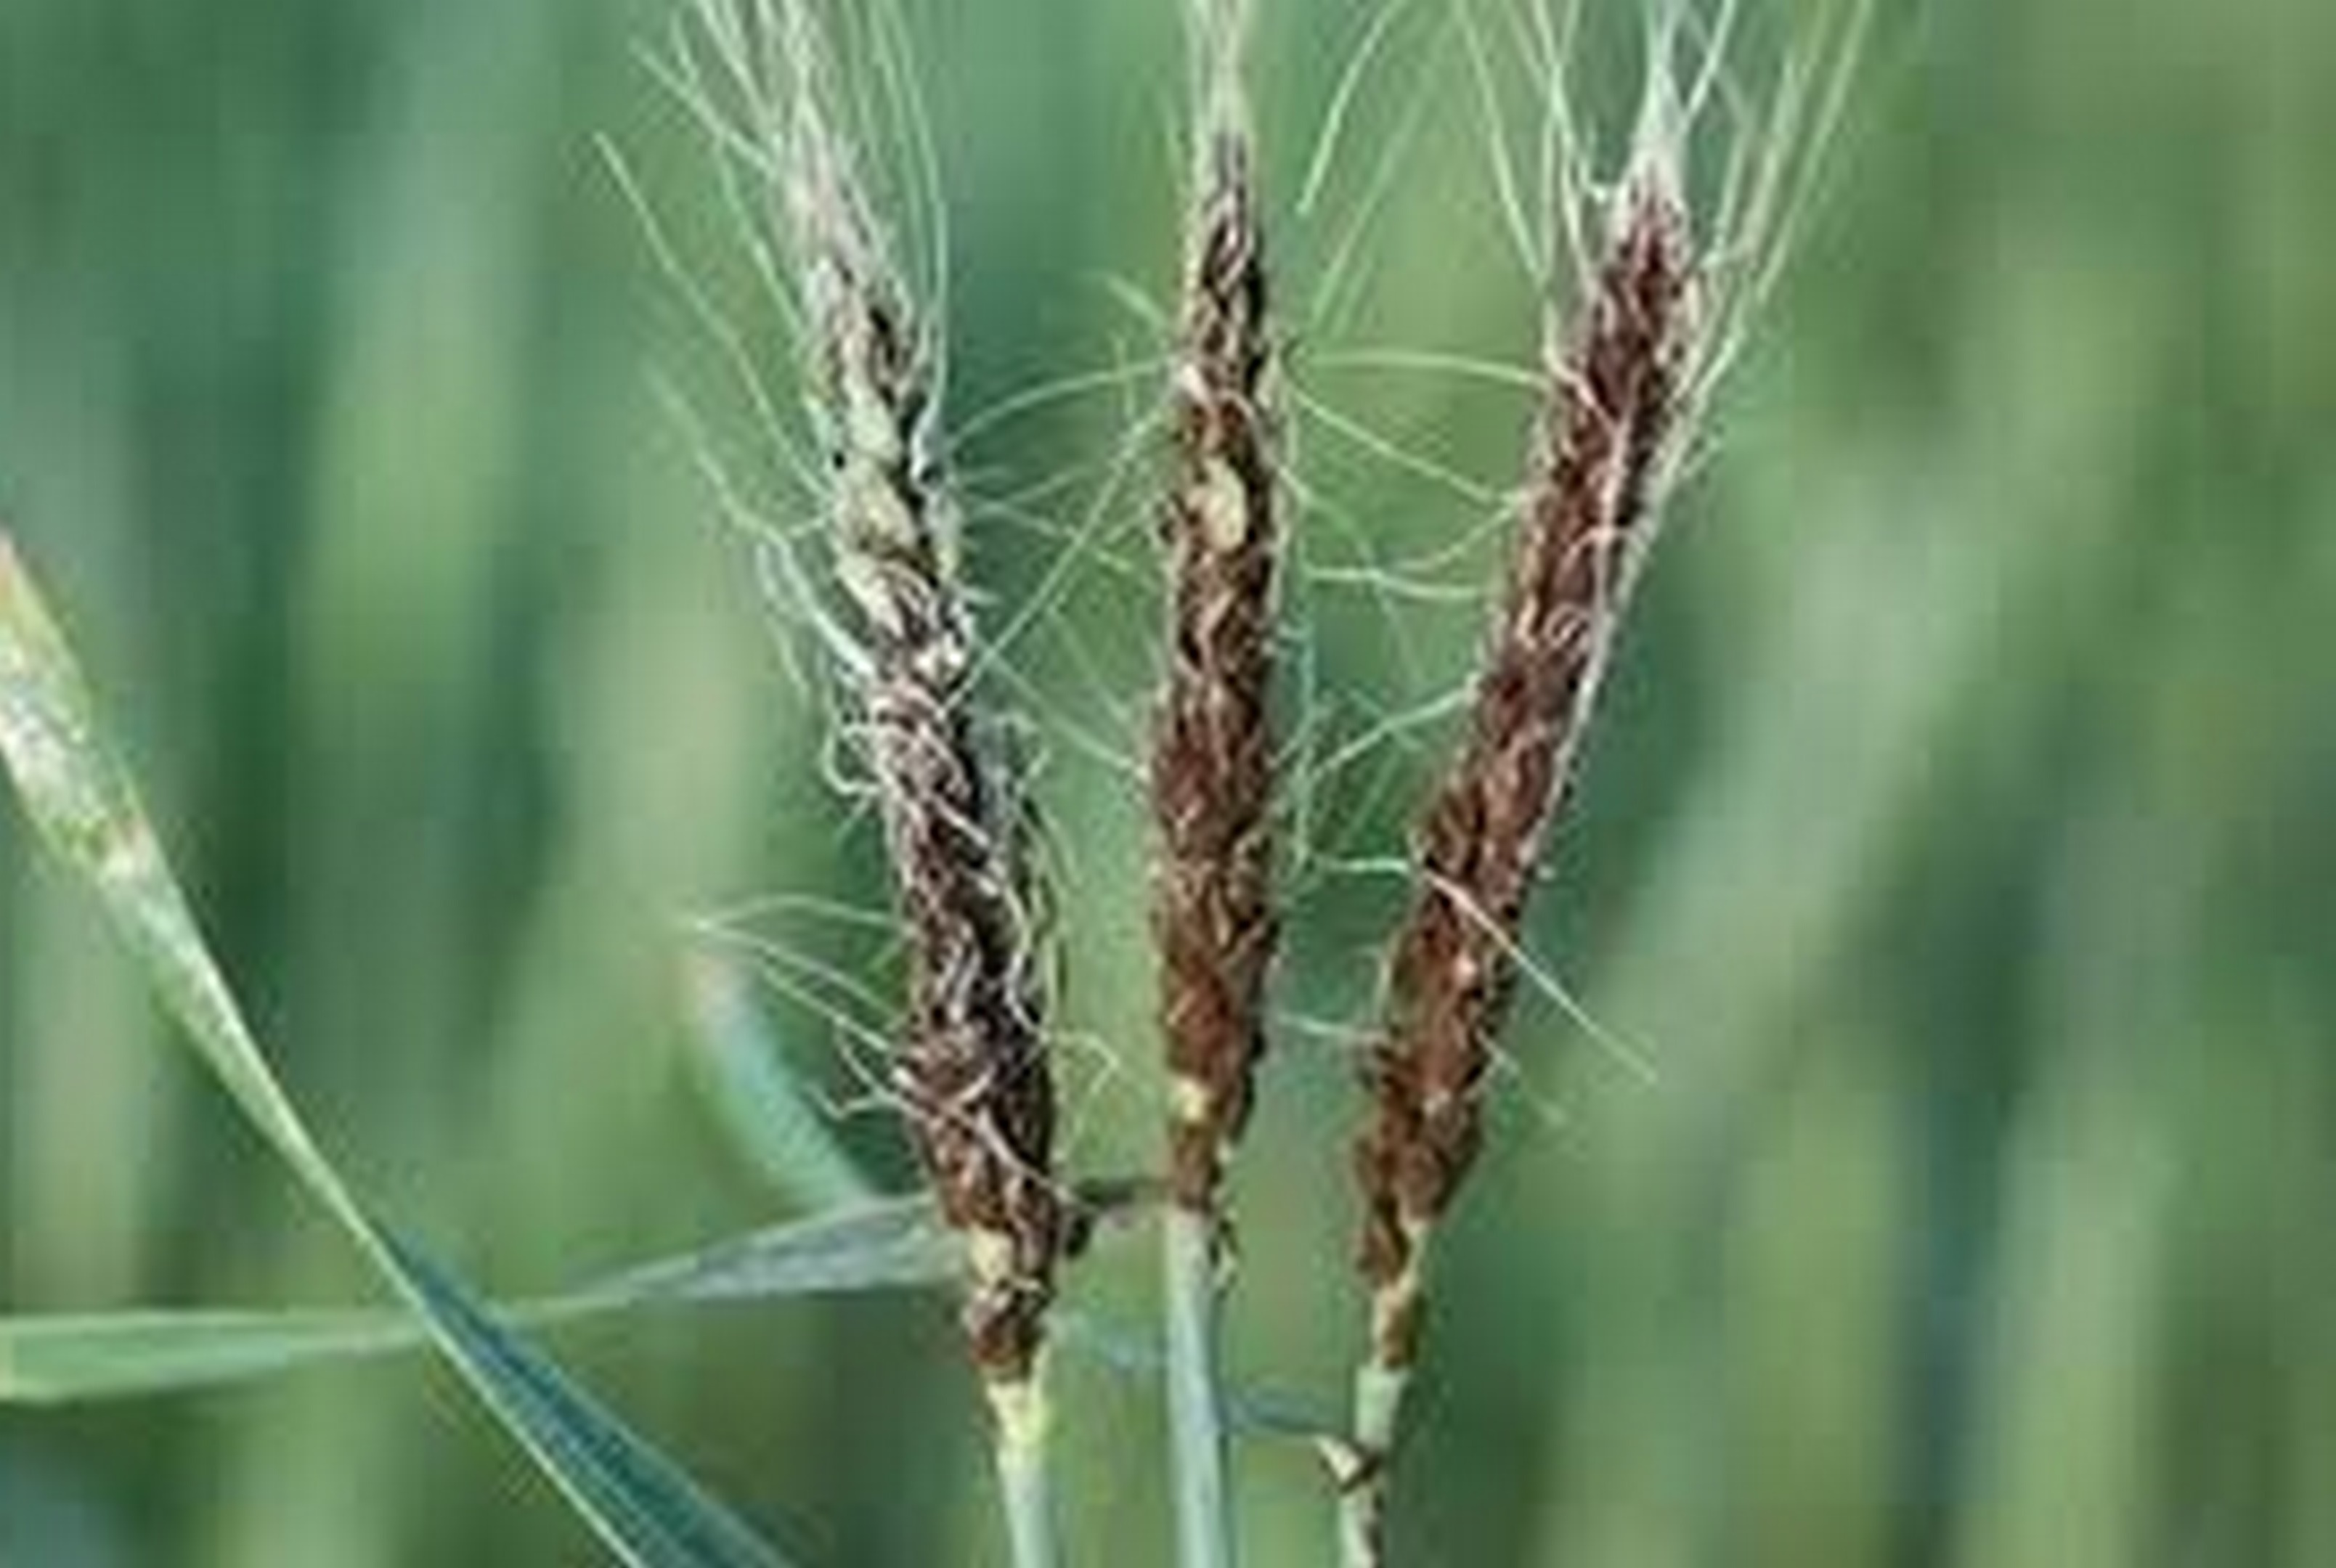Wheat Loose Smut: (738, 156, 1753, 1316)
